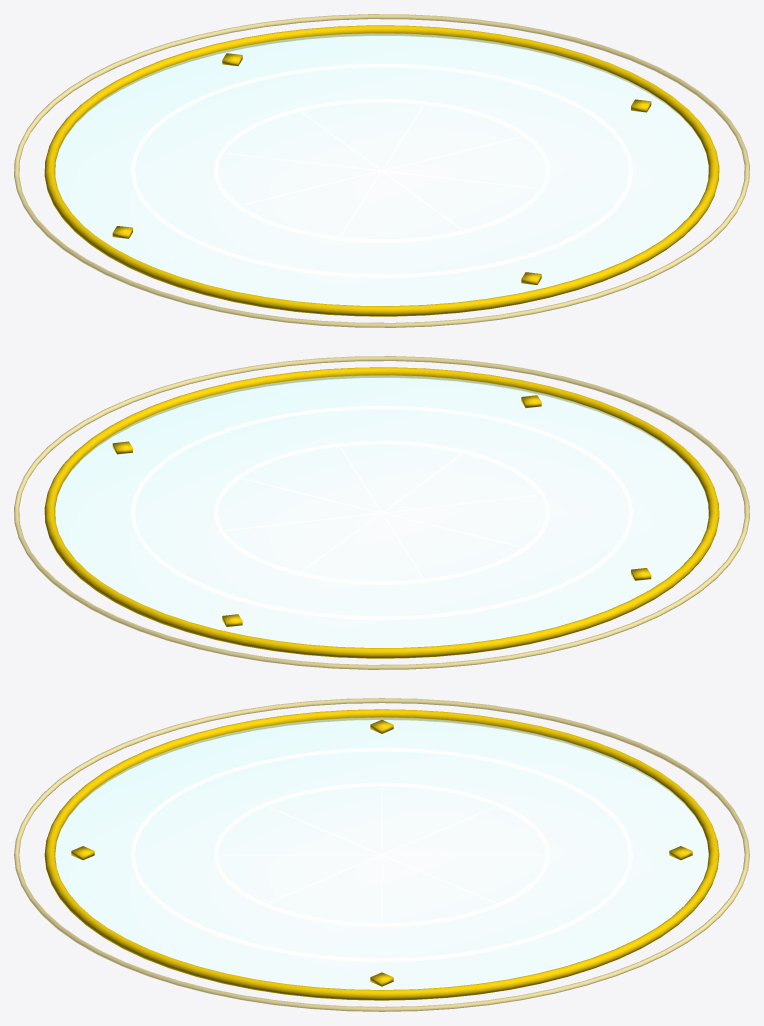
Rendered from SM_SacredCircle_LOD0.fbx.
The picture shows the model from 3 angles, top to bottom: view 1: azimuth 30°, elevation 25°; view 2: azimuth 150°, elevation 25°; view 3: azimuth 270°, elevation 25°; orthographic projection.
Visible parts, largest first — view 1: SM_SacredCircle_SafetyFill, SM_SacredCircle_MainRing, SM_SacredCircle_ExpansionPulse, SM_SacredCircle_InnerRing_375, SM_SacredCircle_InnerRing_250; view 2: SM_SacredCircle_SafetyFill, SM_SacredCircle_MainRing, SM_SacredCircle_ExpansionPulse, SM_SacredCircle_InnerRing_375, SM_SacredCircle_InnerRing_250; view 3: SM_SacredCircle_SafetyFill, SM_SacredCircle_MainRing, SM_SacredCircle_ExpansionPulse, SM_SacredCircle_InnerRing_375, SM_SacredCircle_InnerRing_250.
Boxes of the visible parts, x1,y1,x2,y2 form: SM_SacredCircle_SafetyFill: (55,33,708,305); SM_SacredCircle_MainRing: (44,25,719,316); SM_SacredCircle_ExpansionPulse: (14,14,749,327); SM_SacredCircle_InnerRing_375: (131,63,632,277); SM_SacredCircle_InnerRing_250: (214,99,549,242); SM_SacredCircle_SafetyFill: (55,375,708,647); SM_SacredCircle_MainRing: (44,367,719,658); SM_SacredCircle_ExpansionPulse: (14,356,749,669); SM_SacredCircle_InnerRing_375: (131,405,632,619); SM_SacredCircle_InnerRing_250: (214,441,549,584); SM_SacredCircle_SafetyFill: (55,717,708,989); SM_SacredCircle_MainRing: (44,709,719,1000); SM_SacredCircle_ExpansionPulse: (14,698,749,1011); SM_SacredCircle_InnerRing_375: (131,748,632,961); SM_SacredCircle_InnerRing_250: (214,783,549,926).
Size of the model in its own units: 11.08 by 0.16 by 11.08.
